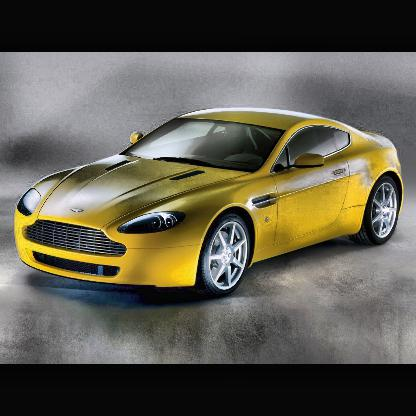Aston Martin V8 Vantage Coupe 2012: (16, 109, 406, 297)
